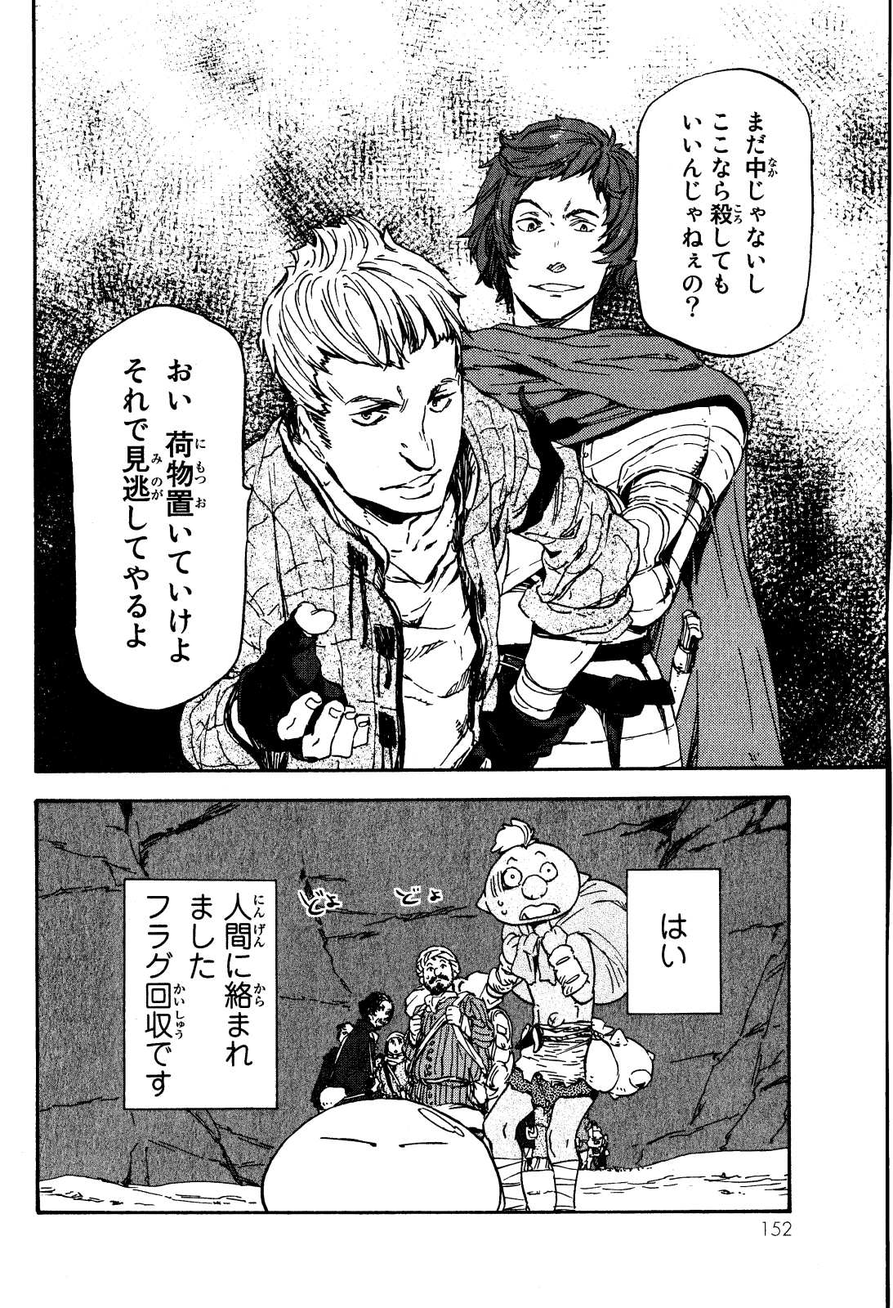bubbles: (63, 302, 253, 716), (632, 60, 817, 361), (118, 873, 282, 1116), (622, 862, 726, 1019)
